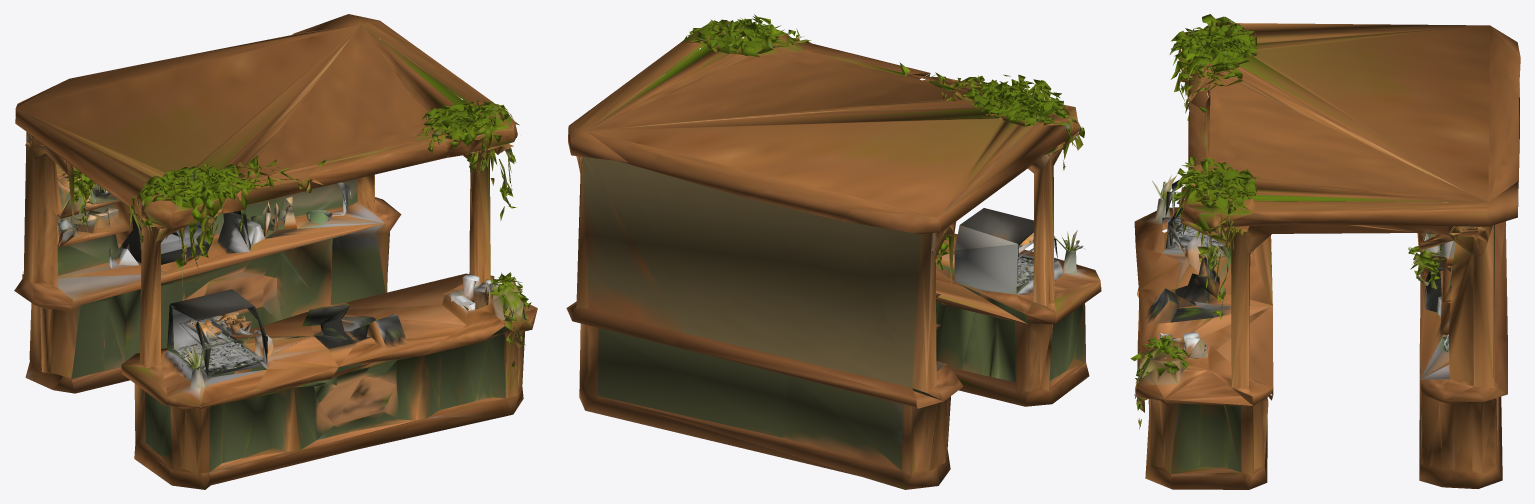
The model's file is Worldc49ef50c4b.glb.
3 views of the same model, side by side, from view 1: azimuth 30°, elevation 25°; view 2: azimuth 150°, elevation 25°; view 3: azimuth 270°, elevation 25° (orthographic). The views are drawn at different scales.
Visible parts, largest first — view 1: Worldc49ef50c4b; view 2: Worldc49ef50c4b; view 3: Worldc49ef50c4b.
Boxes of the visible parts, x1,y1,x2,y2 form: Worldc49ef50c4b: [14, 14, 537, 489]; Worldc49ef50c4b: [566, 14, 1101, 489]; Worldc49ef50c4b: [1130, 14, 1520, 489].
Bounding box in the file's own units: 7 × 5.08 × 5.84.
1 material, 1 textured.
